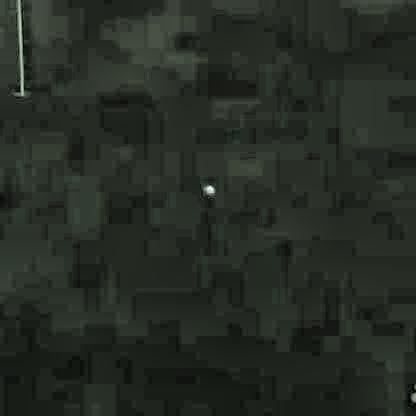golfball: (201, 184, 212, 194)
